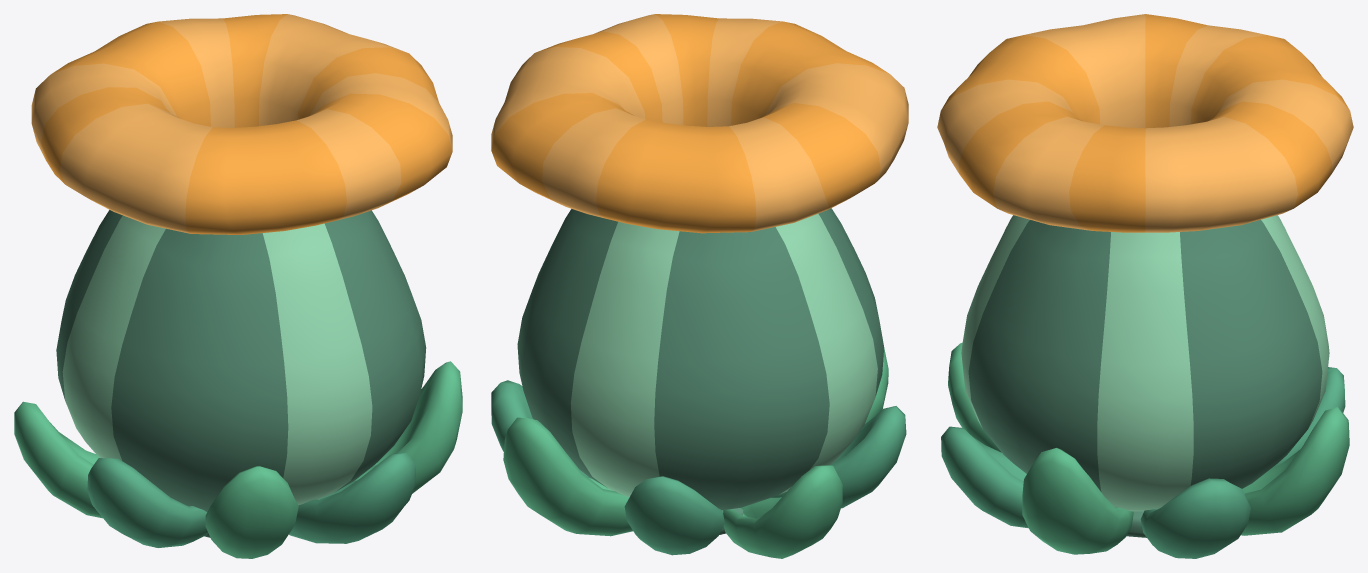
The model's file is Bulber_C_01.fbx.
The picture shows the model from 3 angles, left to right: view 1: azimuth 30°, elevation 25°; view 2: azimuth 150°, elevation 25°; view 3: azimuth 270°, elevation 25°; orthographic projection.
Visible parts, largest first — view 1: Bulber_C_01_LOD0; view 2: Bulber_C_01_LOD0; view 3: Bulber_C_01_LOD0.
Boxes of the visible parts, x1,y1,x2,y2 form: Bulber_C_01_LOD0: (14,14,462,558); Bulber_C_01_LOD0: (491,14,908,558); Bulber_C_01_LOD0: (937,14,1353,558).
Size of what is drawn, in the model's own units: 767 by 886 by 763.
